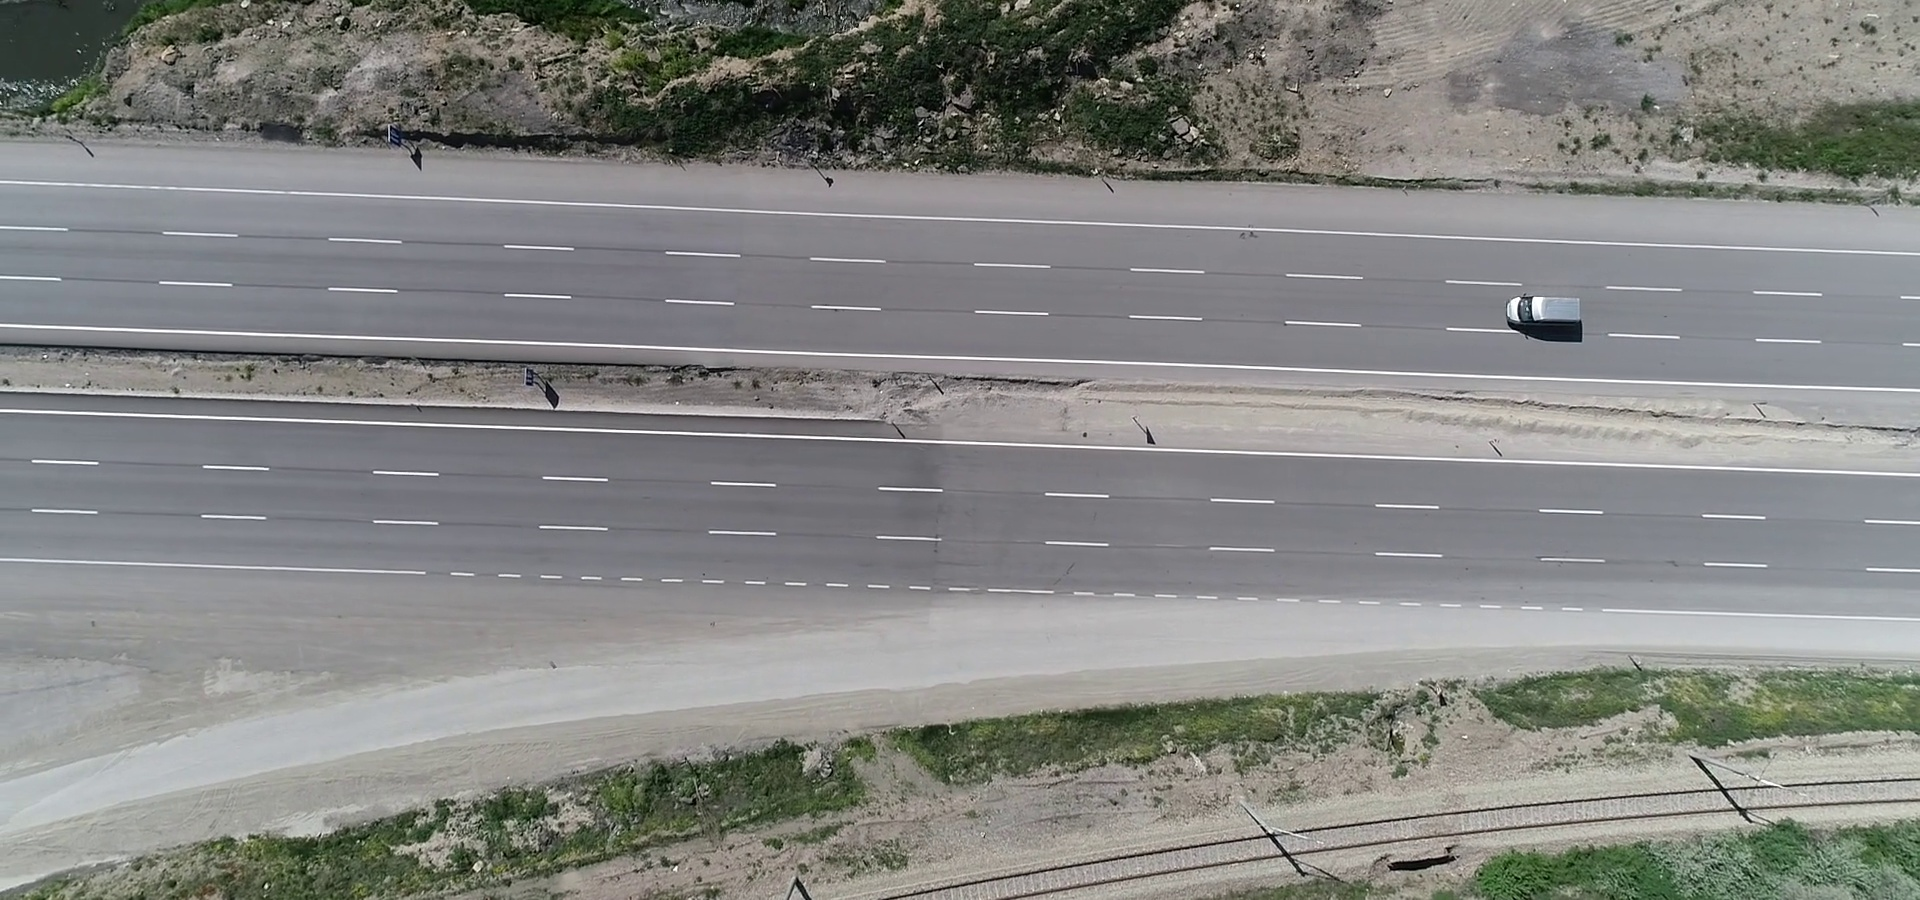arac: (1507, 294, 1582, 333)
